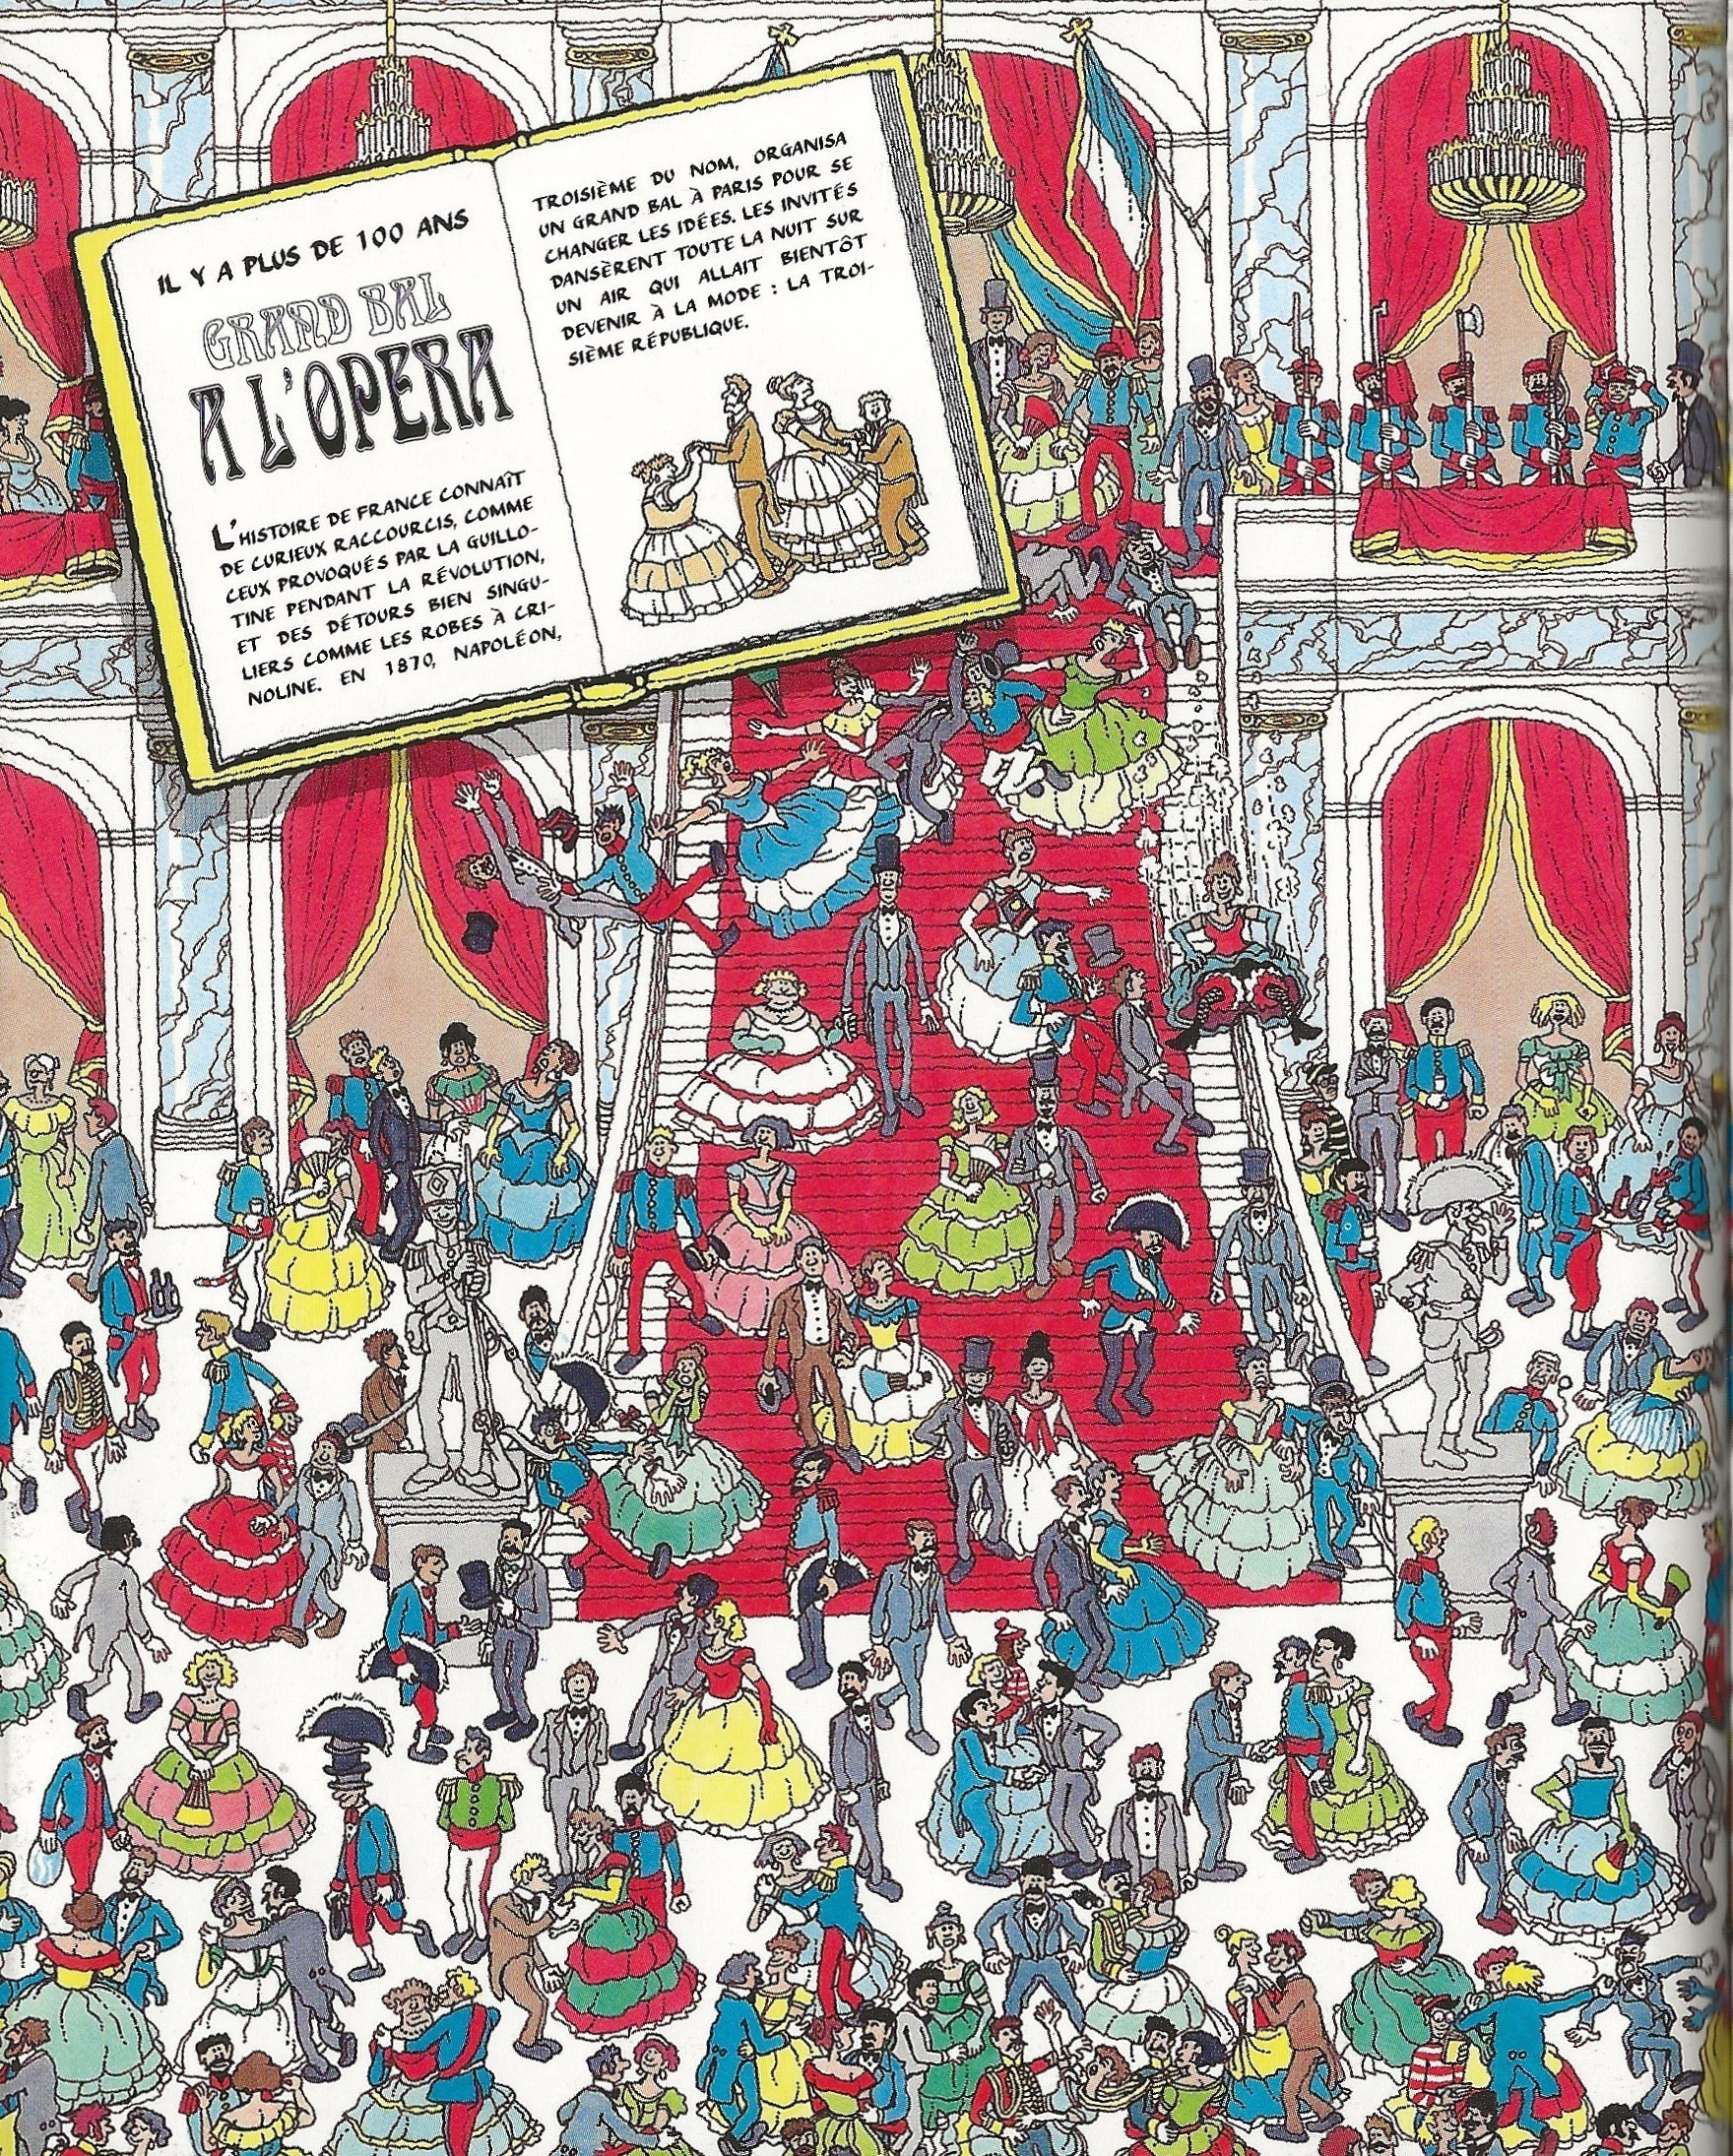Charlie: (1409, 1993, 1470, 2117)
Odlaw: (1296, 1062, 1351, 1158)
